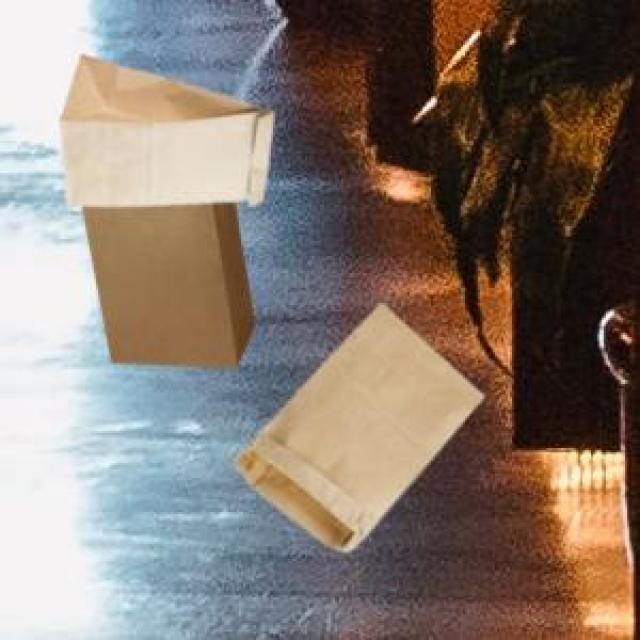paper: (233, 301, 480, 546), (58, 51, 269, 203), (79, 197, 250, 363)
